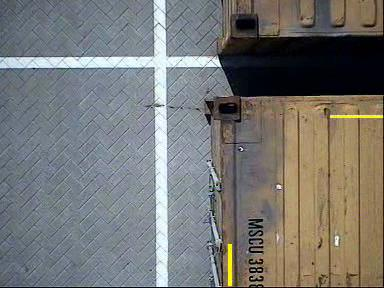groundmarker_2: (108, 185, 217, 272)
